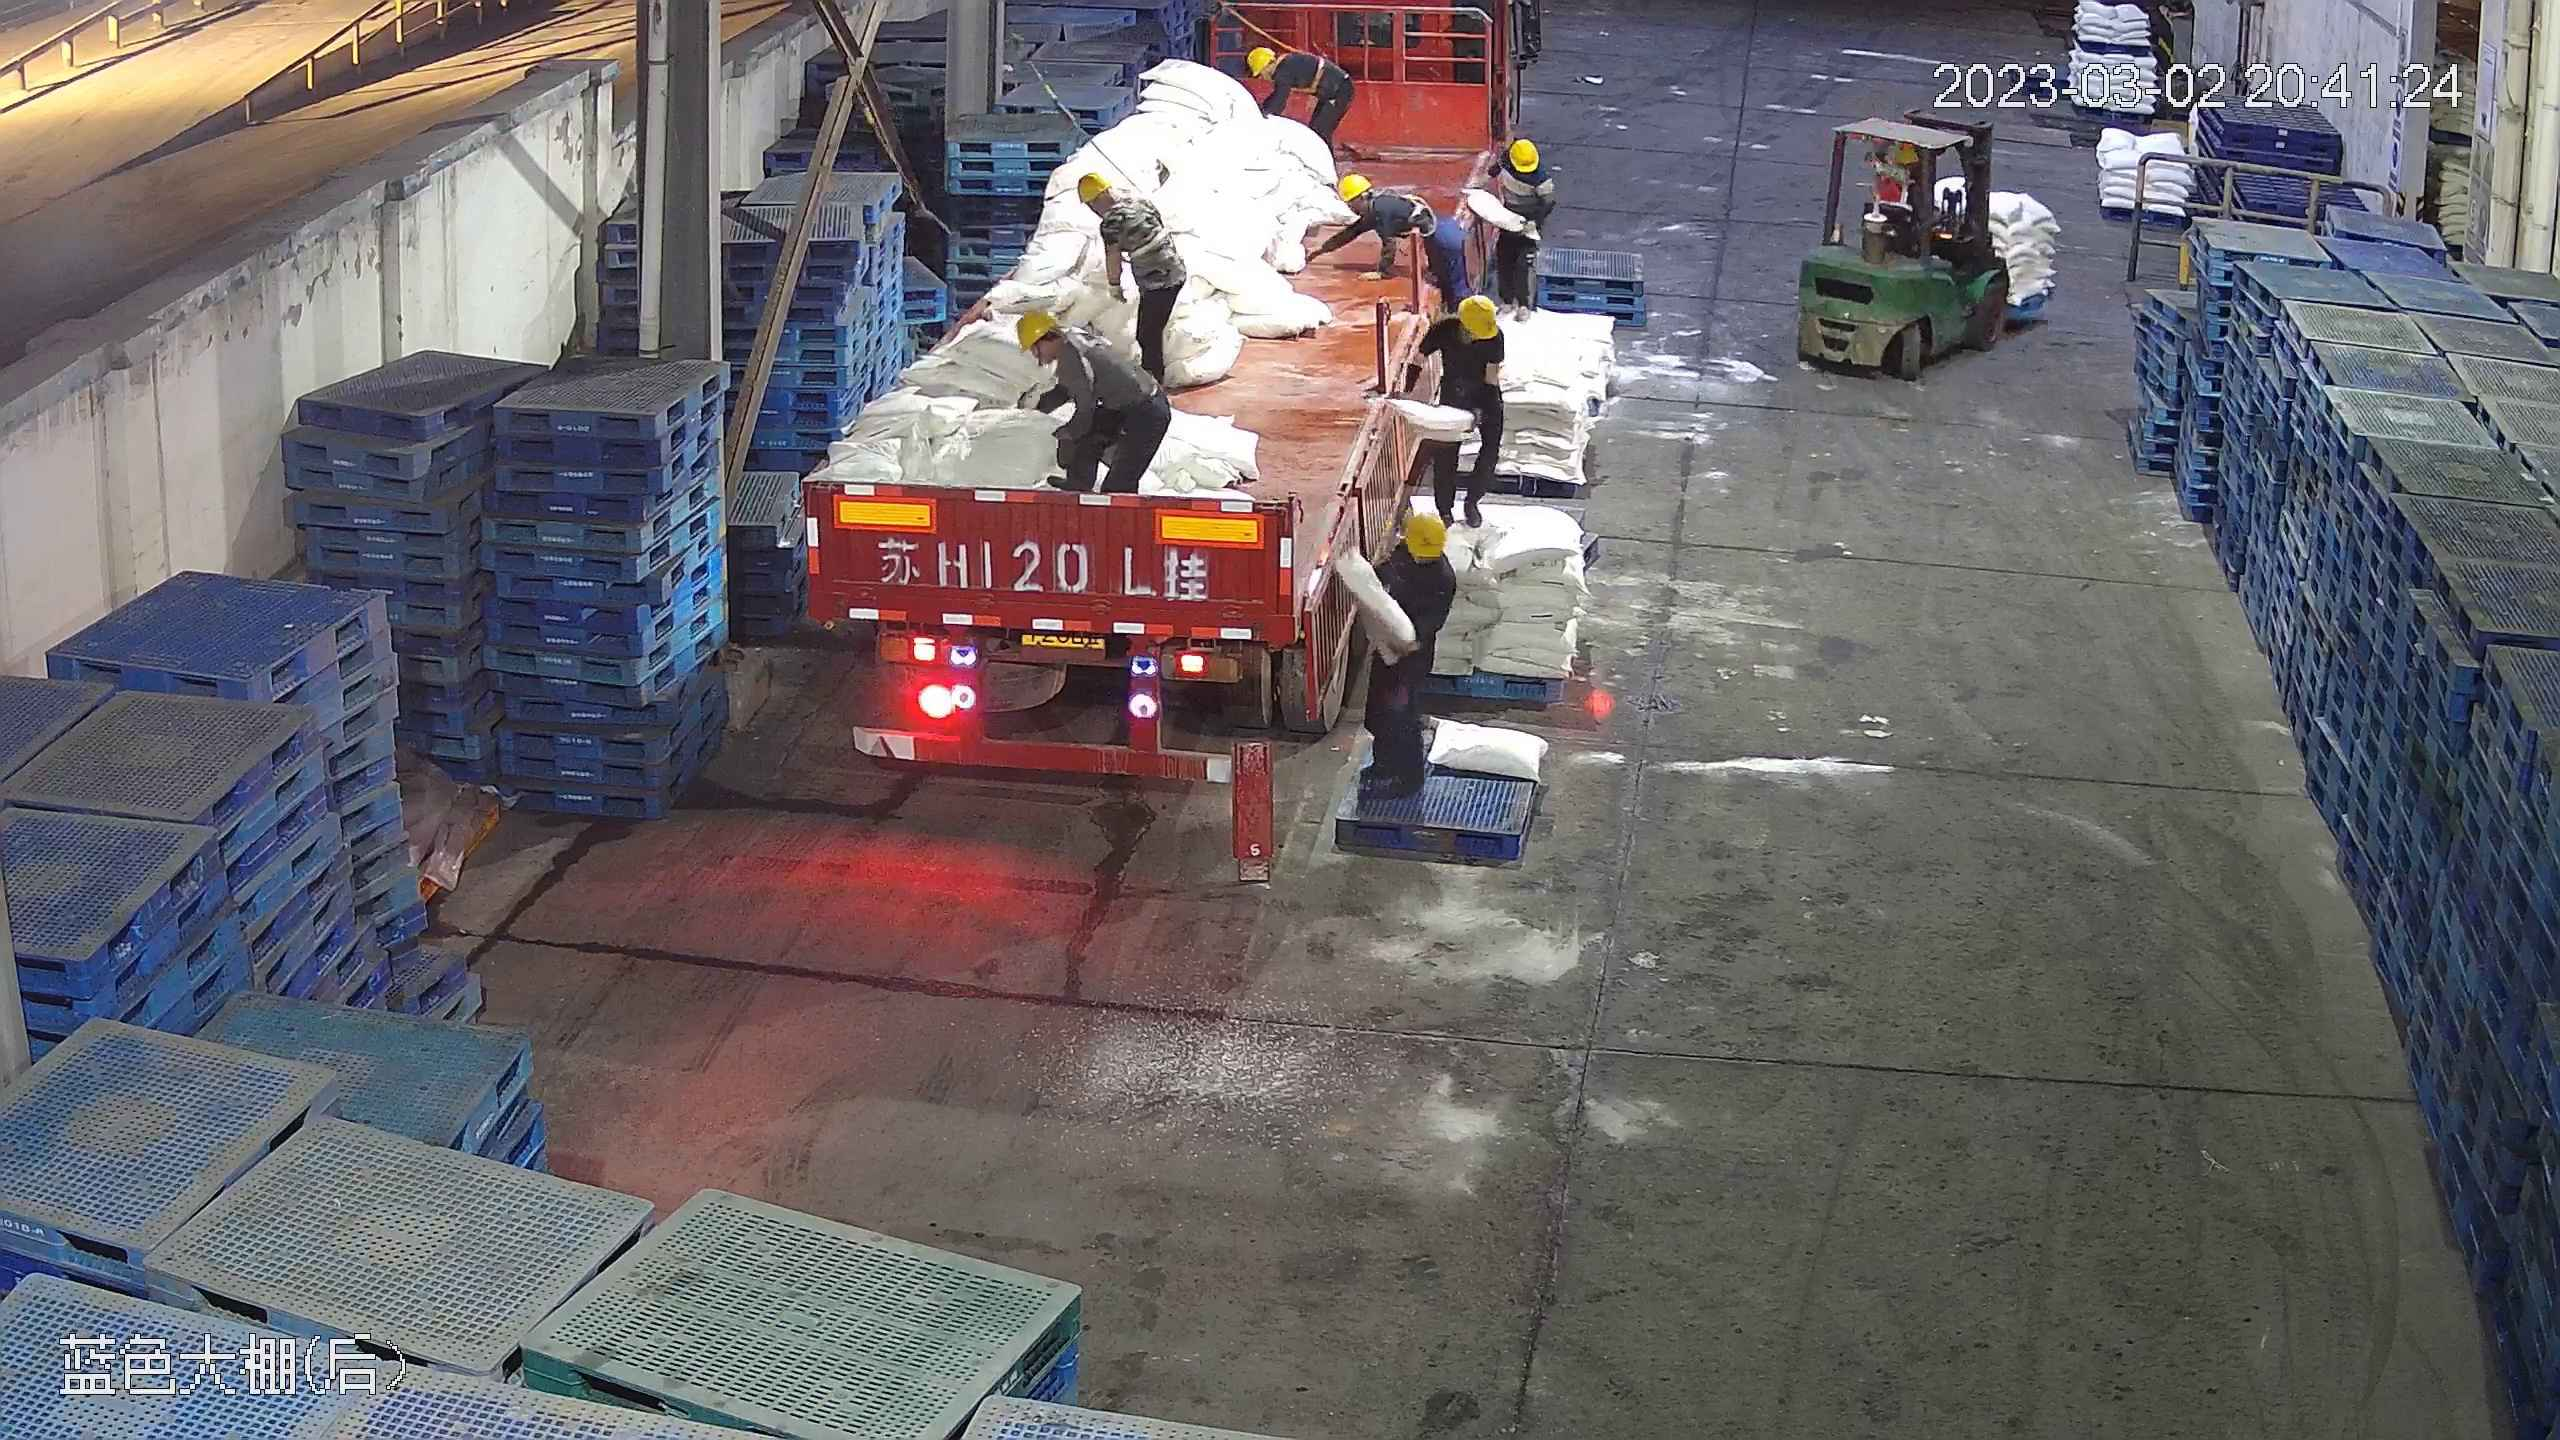belt: (1067, 326, 1135, 399), (1112, 194, 1178, 259), (1375, 186, 1439, 246), (1278, 48, 1330, 93)
head: (1016, 306, 1109, 389), (1374, 504, 1453, 593), (1421, 294, 1506, 368), (1329, 171, 1416, 240), (1076, 169, 1152, 239), (1474, 137, 1544, 202), (1247, 44, 1309, 91), (1880, 146, 1926, 200)
helmet: (1401, 505, 1448, 560), (1014, 303, 1058, 351), (1455, 293, 1502, 340), (1072, 169, 1113, 205), (1505, 137, 1538, 174), (1336, 171, 1369, 201), (1247, 42, 1276, 74), (1891, 147, 1918, 167)
people: (1340, 502, 1452, 810), (1305, 172, 1455, 385), (1014, 308, 1169, 501), (1076, 166, 1191, 388), (1407, 295, 1507, 535), (1465, 133, 1551, 317), (1245, 43, 1352, 142)
truck: (821, 5, 1530, 816)
